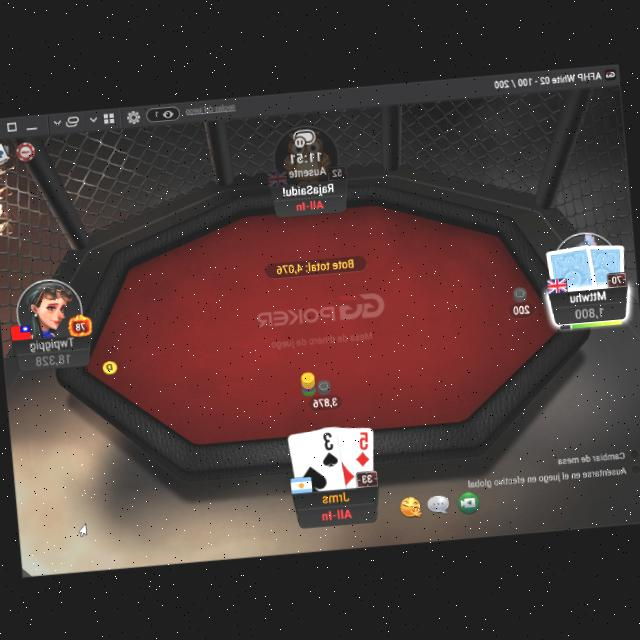3s: (319, 428, 340, 468)
5d: (350, 428, 372, 466)
all_in_symbol: (318, 503, 354, 522), (293, 196, 325, 212)
bet_text: (312, 394, 338, 408), (510, 300, 531, 315)
card_back: (544, 240, 598, 294), (580, 238, 628, 290)
dealer: (298, 367, 318, 390), (99, 354, 119, 374)
pot_text: (272, 256, 356, 274)
stack_text: (33, 349, 70, 366), (572, 302, 604, 320)
